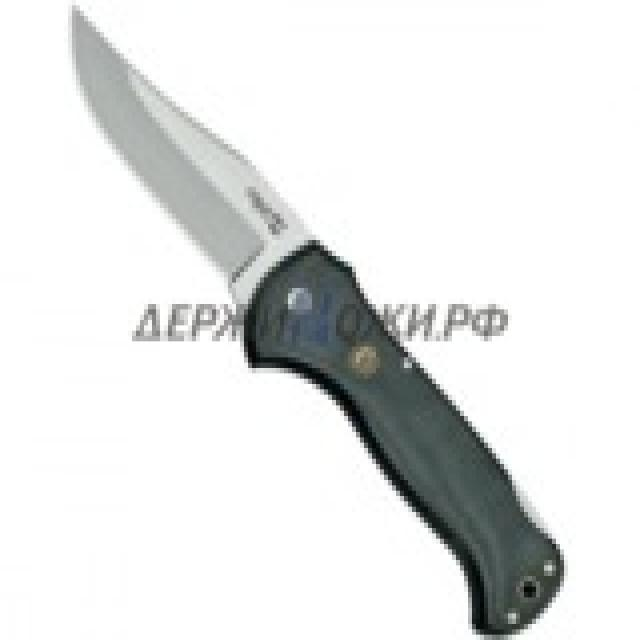Knife: (60, 0, 560, 619)
